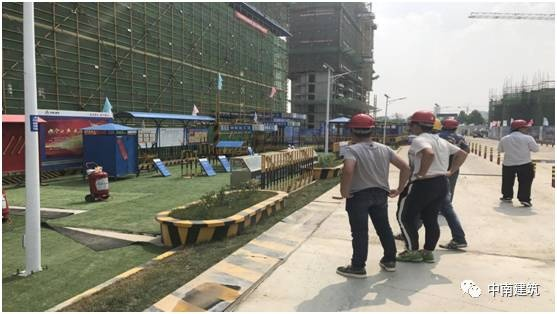red: (347, 109, 376, 143), (410, 107, 437, 134), (440, 117, 459, 134), (511, 118, 529, 135)
